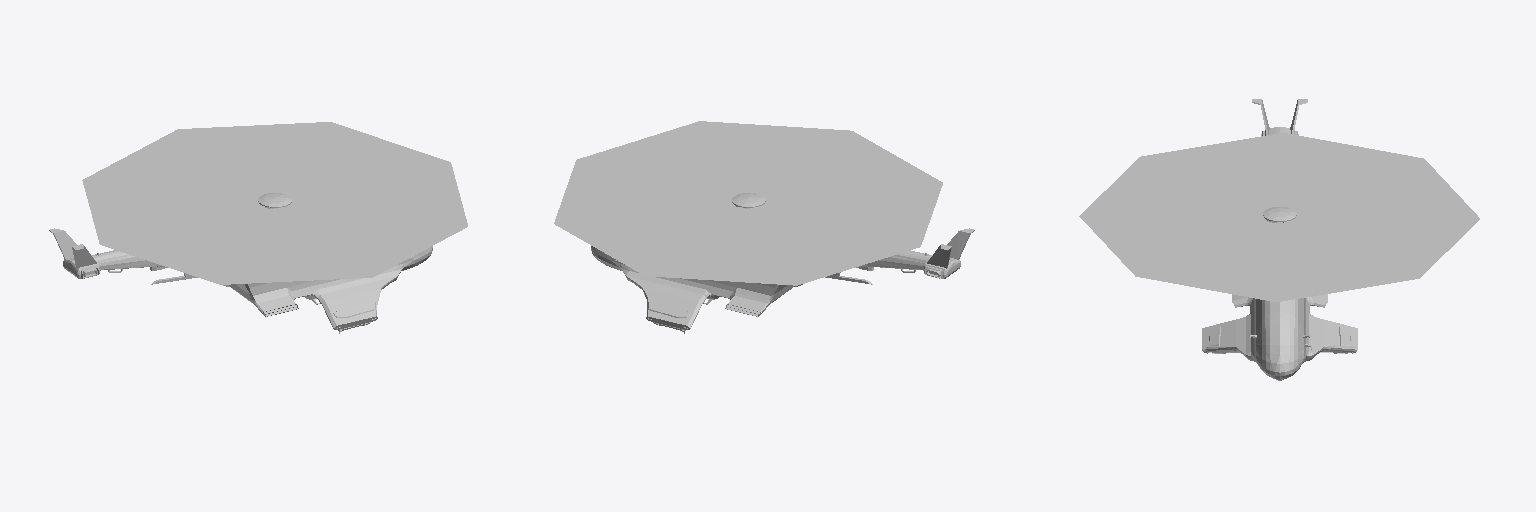
File: droneobject.obj
3 renders of one model, left to right at view 1: azimuth 30°, elevation 25°; view 2: azimuth 150°, elevation 25°; view 3: azimuth 270°, elevation 25°, orthographic.
Parts seen in each view (by area): view 1: Drone2; view 2: Drone2; view 3: Drone2.
Boxes of the visible parts, x1=… form: Drone2: x1=49, y1=122, x2=467, y2=333; Drone2: x1=554, y1=121, x2=974, y2=333; Drone2: x1=1079, y1=99, x2=1479, y2=380.
Size of the model in its own units: 4.84 by 1.51 by 4.35.